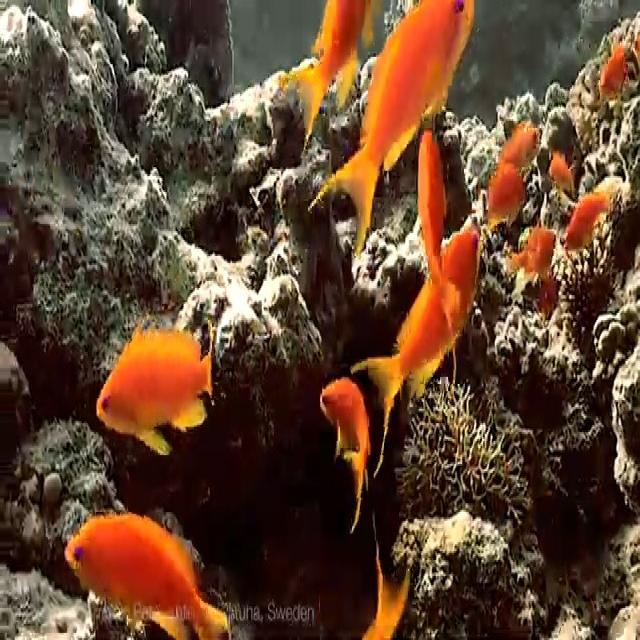Sea Goldie: (327, 9, 476, 221), (362, 235, 480, 422), (64, 514, 225, 640), (97, 328, 214, 457), (282, 3, 370, 127), (320, 376, 369, 537), (418, 136, 458, 323), (509, 222, 556, 290), (484, 168, 530, 228), (562, 190, 601, 258), (497, 121, 540, 165), (599, 46, 626, 101), (549, 145, 574, 200)
